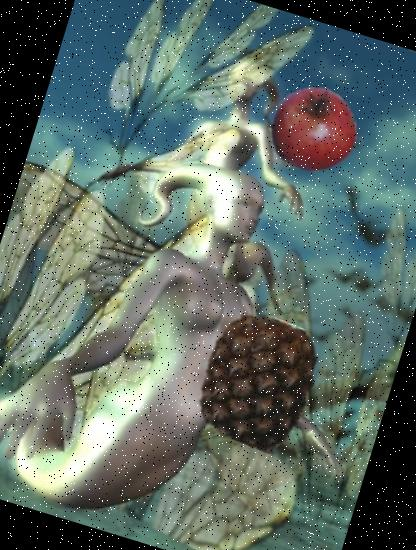Pineapple: (178, 299, 340, 462)
Pomegranate: (260, 76, 367, 183)
